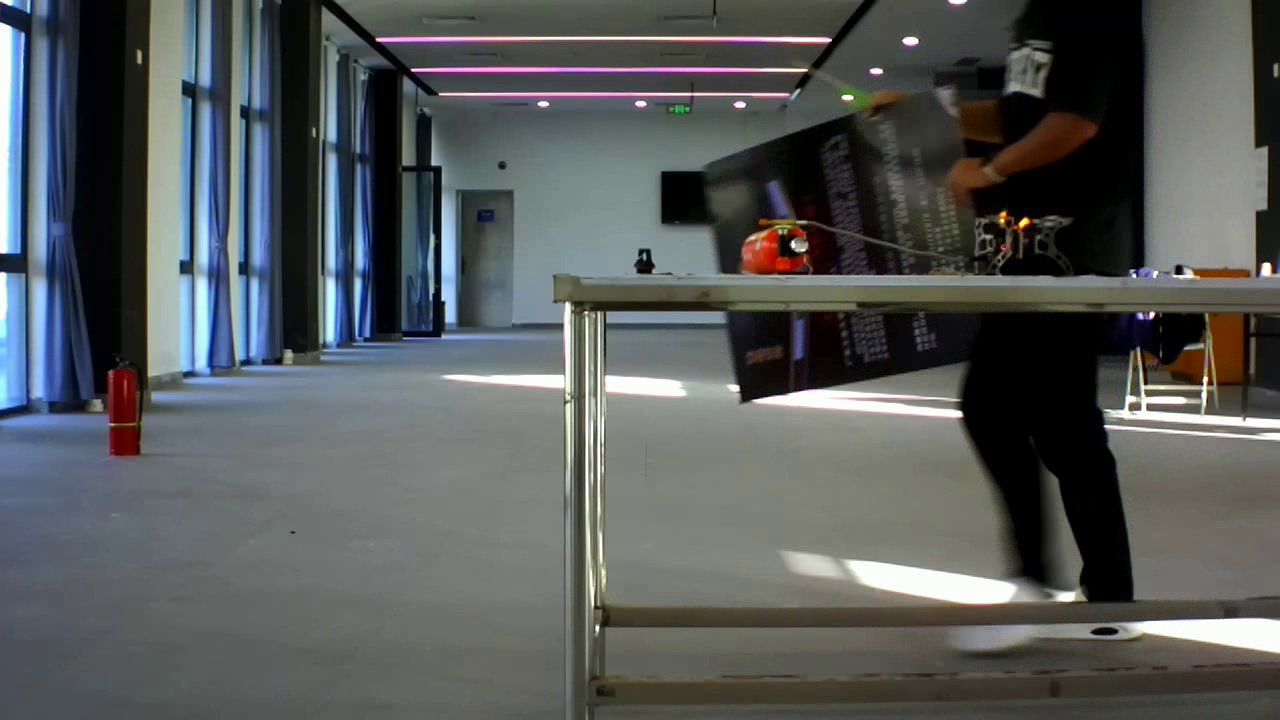Fire: (991, 207, 1039, 233)
